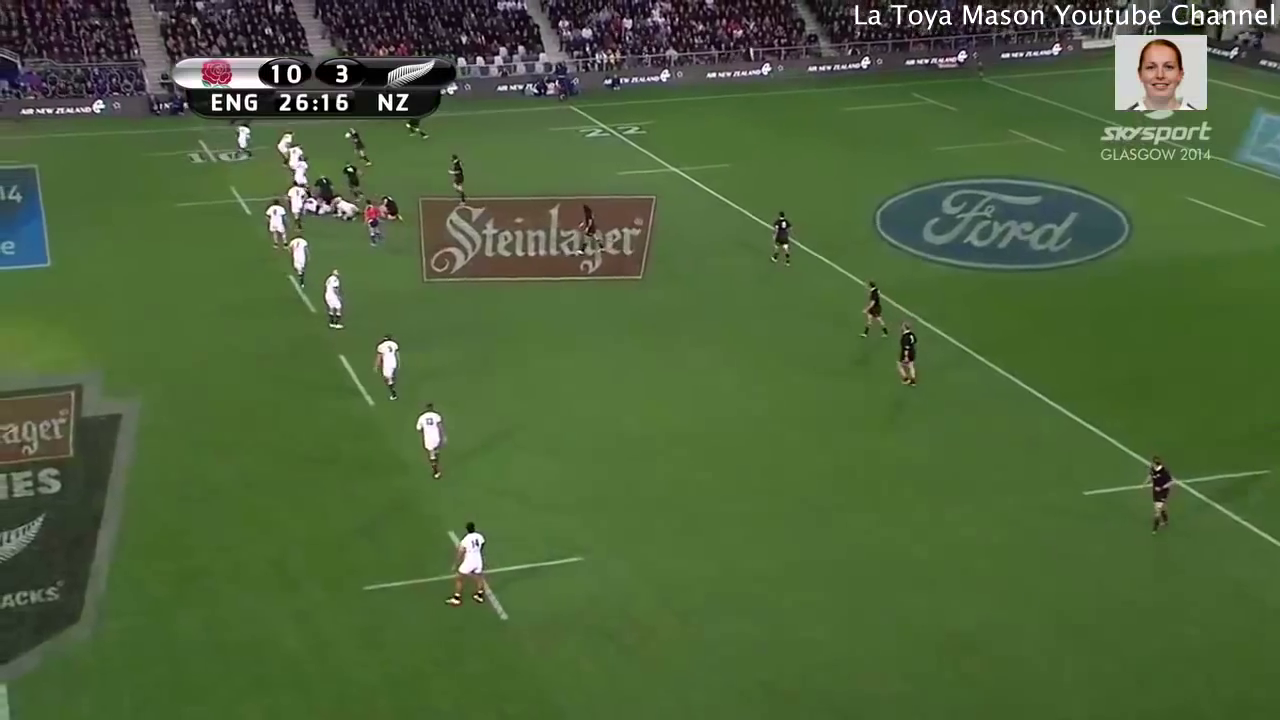10_metre: (351, 520, 589, 620), (136, 133, 269, 168), (172, 183, 287, 220)
ball: (345, 129, 352, 140)
player: (443, 518, 486, 611), (1140, 450, 1180, 540), (412, 400, 448, 482), (368, 328, 405, 404), (765, 204, 797, 274), (861, 276, 893, 344), (897, 320, 922, 389), (321, 268, 349, 329), (573, 200, 605, 251), (288, 232, 314, 294), (281, 178, 310, 230), (265, 193, 290, 253), (445, 148, 470, 204), (230, 122, 260, 162), (363, 194, 385, 246), (346, 126, 374, 166), (377, 190, 405, 227), (330, 196, 365, 224), (312, 173, 336, 211), (286, 140, 307, 176), (277, 128, 297, 163), (342, 161, 362, 196), (402, 120, 430, 140), (292, 157, 311, 184)
